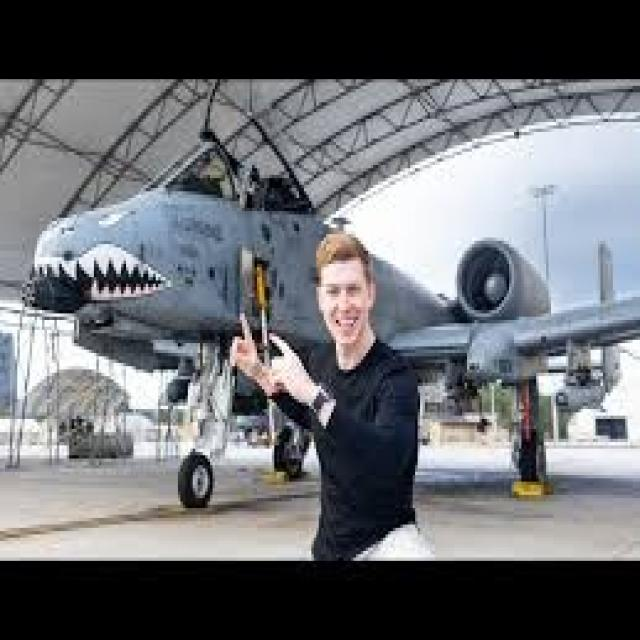A10: (23, 112, 640, 516)
